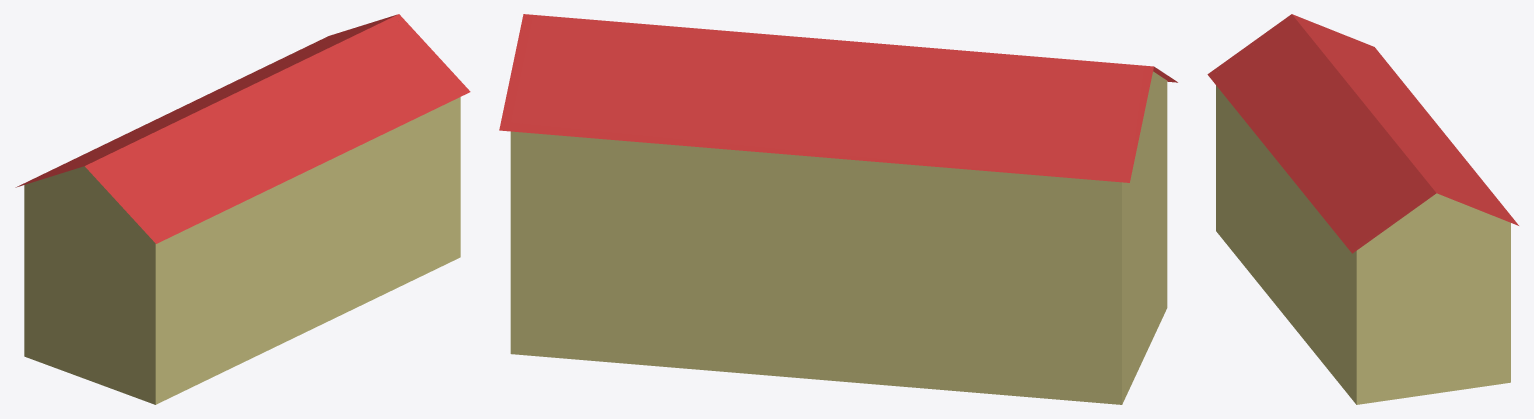
3 renders of one model, left to right at view 1: azimuth 30°, elevation 25°; view 2: azimuth 150°, elevation 25°; view 3: azimuth 270°, elevation 25°, orthographic. The views are drawn at different scales.
Bounding box in the file's own units: 17.64 × 11.44 × 8.21.
